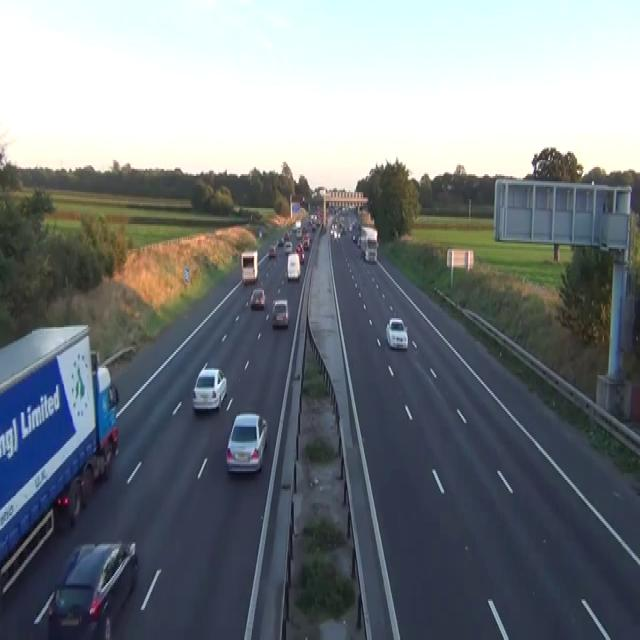Car: (47, 540, 138, 638), (225, 412, 267, 474), (191, 362, 227, 410), (385, 316, 408, 351), (271, 299, 289, 327), (249, 288, 265, 309), (358, 226, 367, 249), (295, 242, 304, 263), (330, 222, 340, 240), (364, 247, 376, 261), (284, 240, 292, 254), (268, 244, 276, 258), (302, 235, 310, 249), (339, 224, 346, 235), (352, 233, 359, 243), (277, 237, 284, 246), (356, 235, 361, 247), (283, 231, 289, 240), (296, 228, 301, 236), (292, 222, 296, 231), (258, 228, 262, 236), (311, 224, 316, 229)
Truck: (0, 322, 119, 597), (358, 226, 378, 261), (240, 249, 258, 284), (287, 252, 300, 281), (294, 218, 301, 236)
